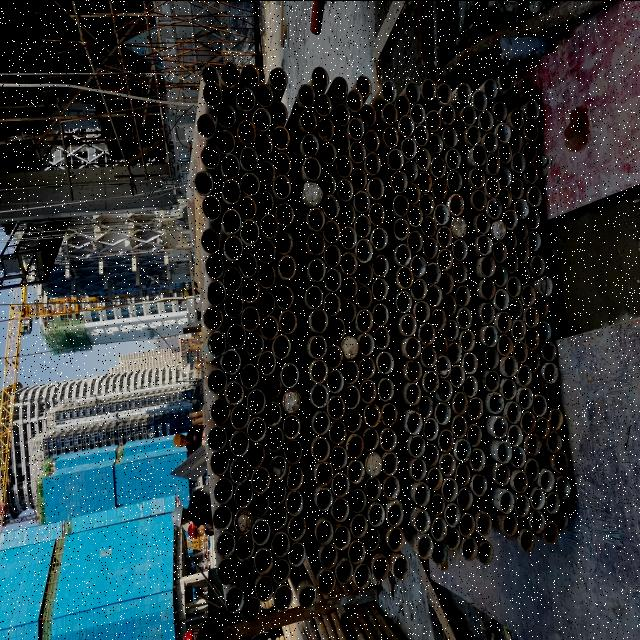pipe: (346, 453, 366, 488), (215, 558, 238, 588), (266, 423, 286, 457), (200, 227, 223, 256), (200, 193, 223, 221), (233, 507, 256, 535), (204, 78, 226, 107), (215, 530, 237, 558), (210, 396, 232, 424), (204, 252, 226, 280), (236, 83, 258, 111), (344, 432, 366, 460), (202, 304, 225, 330), (205, 278, 228, 304), (215, 128, 238, 154), (240, 170, 262, 197), (523, 454, 541, 486), (212, 504, 234, 530), (211, 480, 233, 506), (208, 449, 230, 475), (205, 368, 227, 394), (200, 59, 222, 85), (220, 208, 242, 234), (220, 178, 242, 204), (224, 292, 243, 322), (241, 596, 261, 624), (230, 456, 250, 484), (230, 430, 250, 458), (273, 584, 293, 612), (282, 387, 302, 415), (400, 310, 420, 338), (506, 104, 526, 132), (206, 426, 228, 451), (302, 181, 324, 206), (224, 233, 244, 260), (252, 516, 270, 546), (252, 465, 270, 495), (270, 530, 290, 557), (342, 384, 362, 411), (536, 440, 554, 470), (224, 586, 243, 614), (269, 454, 288, 482), (318, 568, 337, 596), (195, 170, 218, 193), (217, 102, 239, 126), (276, 254, 298, 278), (208, 330, 228, 356), (223, 266, 243, 292), (222, 60, 242, 86), (242, 306, 262, 332), (240, 277, 260, 303), (256, 290, 276, 316), (312, 436, 332, 462), (288, 513, 308, 539), (280, 362, 300, 388), (310, 358, 330, 384), (390, 167, 409, 194), (235, 480, 252, 510), (441, 474, 458, 504), (200, 143, 222, 166), (231, 402, 249, 430), (249, 440, 267, 468), (246, 329, 264, 357), (242, 217, 260, 245), (238, 118, 256, 146), (264, 372, 282, 400), (258, 259, 276, 287), (348, 538, 366, 566), (351, 510, 369, 538), (349, 488, 367, 516), (236, 536, 256, 561), (272, 334, 292, 359), (344, 409, 364, 434), (275, 283, 294, 309), (355, 308, 374, 334), (270, 504, 288, 531), (262, 312, 280, 339), (198, 111, 218, 135), (220, 153, 240, 177), (240, 144, 260, 168), (274, 229, 294, 253), (275, 202, 295, 226), (508, 396, 524, 426), (538, 468, 558, 492), (438, 448, 455, 476), (256, 548, 274, 574), (249, 415, 267, 441), (272, 558, 290, 584), (269, 480, 287, 506), (258, 350, 276, 376), (258, 238, 276, 264), (256, 130, 274, 156), (298, 584, 316, 610), (288, 540, 306, 566), (316, 486, 334, 512), (310, 382, 328, 408), (310, 332, 328, 358), (366, 451, 384, 477), (364, 401, 382, 427), (350, 138, 368, 164), (416, 532, 434, 558), (432, 538, 450, 564), (414, 507, 432, 533), (418, 190, 436, 216), (416, 146, 434, 172), (486, 194, 504, 220), (524, 431, 542, 457), (546, 489, 562, 518), (396, 114, 416, 137), (478, 277, 498, 300), (470, 165, 490, 188), (405, 379, 422, 406), (452, 412, 469, 439), (315, 461, 334, 485), (316, 116, 335, 140), (501, 512, 520, 536), (483, 323, 502, 347), (223, 348, 241, 373), (227, 324, 245, 349), (252, 492, 270, 517), (286, 464, 304, 489), (342, 359, 360, 384), (366, 477, 384, 502), (359, 378, 377, 403), (386, 501, 404, 526), (436, 247, 454, 272), (366, 525, 382, 553), (370, 501, 386, 529), (406, 408, 422, 436), (422, 343, 438, 371), (410, 252, 426, 280), (446, 338, 462, 366), (518, 384, 534, 412), (238, 560, 255, 586), (312, 409, 329, 435), (354, 564, 371, 590), (393, 192, 410, 218), (432, 329, 449, 355), (483, 152, 503, 174), (262, 212, 280, 236), (255, 82, 273, 106), (284, 415, 302, 439), (278, 310, 296, 334), (272, 174, 290, 198), (272, 98, 288, 125), (269, 66, 287, 90), (305, 284, 323, 308), (308, 257, 326, 281), (308, 232, 326, 256), (303, 156, 321, 180), (300, 108, 318, 132), (298, 84, 316, 108), (336, 560, 354, 584), (330, 420, 346, 447), (322, 194, 340, 218), (340, 251, 358, 275), (340, 226, 358, 250), (356, 238, 374, 262), (376, 350, 394, 374), (377, 378, 395, 402), (380, 428, 398, 452), (382, 451, 400, 475), (382, 475, 400, 499), (396, 264, 414, 288), (444, 499, 460, 526), (439, 425, 455, 452), (476, 540, 494, 564), (457, 328, 475, 352), (454, 284, 472, 308), (422, 76, 438, 103), (496, 309, 514, 333), (516, 362, 534, 386), (324, 292, 342, 316), (429, 156, 446, 181), (258, 158, 272, 188), (534, 386, 548, 416), (242, 62, 261, 84), (409, 458, 428, 480), (257, 575, 273, 601), (241, 250, 257, 276), (288, 489, 304, 515), (360, 353, 376, 379), (348, 116, 364, 142), (405, 335, 421, 361), (394, 216, 410, 242), (382, 78, 398, 104), (424, 365, 437, 397), (462, 535, 478, 561), (458, 486, 474, 512), (455, 436, 471, 462), (452, 390, 468, 416), (508, 422, 524, 448), (501, 378, 517, 404), (498, 331, 514, 357), (480, 108, 496, 134), (526, 346, 542, 372), (511, 316, 527, 342), (502, 206, 518, 232), (509, 175, 525, 201), (338, 202, 356, 225), (382, 102, 400, 125), (412, 122, 430, 145), (436, 225, 454, 248), (333, 497, 350, 521), (324, 243, 341, 267), (312, 66, 329, 90), (341, 335, 358, 359), (337, 178, 354, 202), (336, 154, 353, 178), (374, 326, 391, 350), (388, 526, 405, 550), (393, 556, 410, 580), (435, 398, 449, 427), (227, 378, 243, 403), (382, 402, 398, 427), (418, 321, 434, 346), (436, 353, 452, 378), (477, 510, 493, 535), (472, 472, 488, 497), (455, 462, 471, 487), (476, 209, 492, 234), (546, 429, 562, 454), (240, 195, 258, 217), (265, 402, 283, 424), (252, 108, 270, 130), (272, 152, 290, 174), (346, 90, 364, 112), (416, 172, 434, 194), (484, 174, 502, 196), (446, 526, 460, 554), (452, 362, 466, 390), (530, 366, 544, 394), (405, 359, 422, 382), (358, 284, 373, 310), (424, 414, 437, 444), (427, 282, 442, 308), (302, 132, 318, 156), (341, 276, 357, 300), (364, 128, 380, 152), (366, 151, 382, 175), (369, 202, 385, 226), (372, 276, 388, 300), (416, 482, 432, 506), (402, 134, 418, 158), (436, 378, 452, 402), (470, 448, 486, 472), (452, 215, 468, 239), (494, 286, 510, 310), (512, 340, 528, 364), (524, 160, 540, 184), (425, 441, 439, 468), (414, 299, 429, 324), (311, 308, 328, 330), (319, 172, 336, 194), (372, 558, 389, 580), (371, 228, 388, 250), (409, 102, 426, 124), (492, 416, 509, 438), (484, 346, 501, 368), (242, 365, 258, 388), (274, 125, 290, 148), (388, 145, 404, 168), (452, 237, 468, 260), (450, 192, 466, 215), (446, 147, 462, 170), (498, 489, 514, 512), (333, 472, 347, 498), (432, 514, 446, 540), (428, 466, 442, 492), (520, 528, 534, 554), (512, 445, 526, 471), (508, 272, 522, 298), (505, 248, 519, 274), (327, 344, 342, 368), (324, 219, 339, 243), (341, 300, 356, 324), (334, 130, 349, 154), (364, 428, 379, 452), (424, 234, 439, 258), (422, 213, 437, 237), (469, 396, 484, 420), (439, 270, 454, 294), (488, 390, 503, 414), (525, 304, 540, 328), (503, 228, 518, 252), (258, 191, 274, 213), (286, 440, 302, 462), (308, 208, 324, 230), (326, 268, 342, 290), (320, 142, 336, 164), (334, 103, 350, 125), (332, 76, 348, 98), (358, 262, 374, 284), (354, 190, 370, 212), (361, 103, 377, 125), (368, 176, 384, 198), (372, 254, 388, 276), (373, 302, 389, 324), (395, 290, 411, 312), (404, 80, 420, 102), (462, 352, 478, 374), (426, 110, 442, 132), (486, 369, 502, 391), (472, 188, 488, 210), (492, 218, 508, 240), (514, 220, 530, 242), (508, 128, 524, 150), (480, 302, 496, 324), (328, 396, 342, 421), (420, 394, 434, 419), (498, 438, 512, 463), (555, 508, 569, 533), (557, 476, 571, 501), (453, 260, 468, 283), (410, 228, 423, 254), (250, 389, 264, 413), (320, 546, 336, 567), (318, 519, 332, 543), (356, 75, 372, 96), (412, 277, 426, 301), (426, 261, 440, 285), (461, 512, 475, 536), (458, 306, 472, 330), (440, 294, 454, 318), (496, 464, 510, 488), (517, 492, 531, 516), (494, 262, 508, 286), (554, 450, 568, 474), (542, 362, 558, 383), (518, 239, 532, 263), (498, 184, 512, 208), (498, 164, 512, 188), (512, 148, 526, 172), (411, 434, 426, 456), (467, 424, 482, 446), (429, 130, 444, 152), (447, 169, 462, 191), (443, 125, 458, 147), (535, 416, 550, 438), (524, 118, 539, 140), (332, 444, 345, 469), (359, 332, 373, 355), (404, 158, 418, 181), (528, 184, 542, 207), (328, 320, 344, 340), (352, 168, 368, 188), (433, 206, 449, 226), (437, 82, 453, 102), (480, 256, 496, 276), (477, 234, 493, 254), (466, 124, 482, 144), (492, 242, 508, 262), (484, 130, 500, 150), (542, 340, 558, 360), (498, 70, 514, 90), (431, 309, 446, 330), (431, 492, 444, 516), (397, 93, 410, 117), (356, 215, 370, 237), (397, 242, 411, 264), (406, 181, 420, 203), (464, 376, 478, 398), (514, 470, 528, 492), (503, 355, 517, 377), (550, 407, 564, 429), (509, 298, 523, 320), (526, 328, 540, 350), (522, 284, 536, 306), (517, 262, 531, 284), (531, 254, 545, 276), (528, 230, 542, 252), (498, 140, 512, 162), (484, 78, 498, 100), (526, 98, 540, 120), (316, 94, 331, 114), (473, 90, 488, 110), (531, 511, 544, 534), (473, 144, 487, 165), (522, 75, 536, 96), (336, 526, 348, 550), (408, 204, 420, 228), (543, 382, 555, 406), (527, 207, 540, 229), (516, 196, 529, 218), (497, 120, 510, 142), (524, 140, 537, 162), (328, 370, 342, 390), (385, 126, 399, 146), (442, 104, 456, 124), (462, 104, 476, 124), (457, 82, 471, 102), (544, 522, 558, 542), (538, 321, 552, 341), (536, 296, 550, 316), (539, 276, 553, 296), (445, 319, 457, 342), (494, 100, 506, 123), (434, 178, 446, 198)
